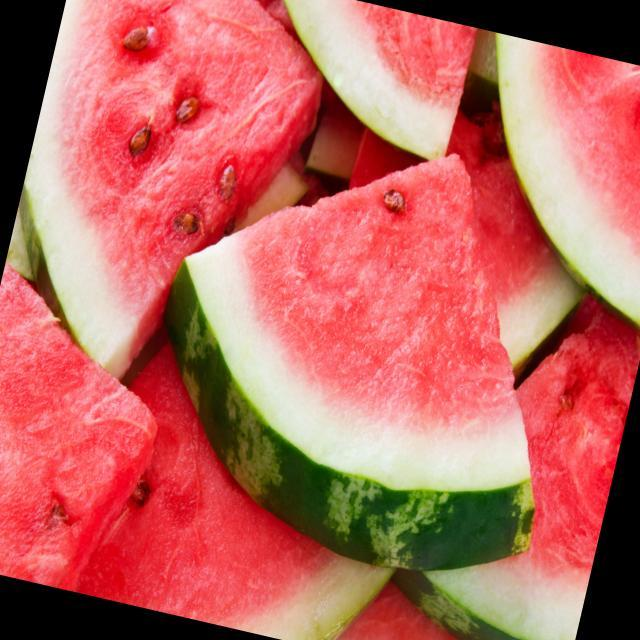WATERMELON: (142, 96, 608, 576), (68, 277, 446, 640), (0, 0, 339, 399), (383, 269, 640, 640), (345, 111, 615, 369), (0, 266, 186, 601), (441, 35, 640, 331), (246, 0, 476, 173)
